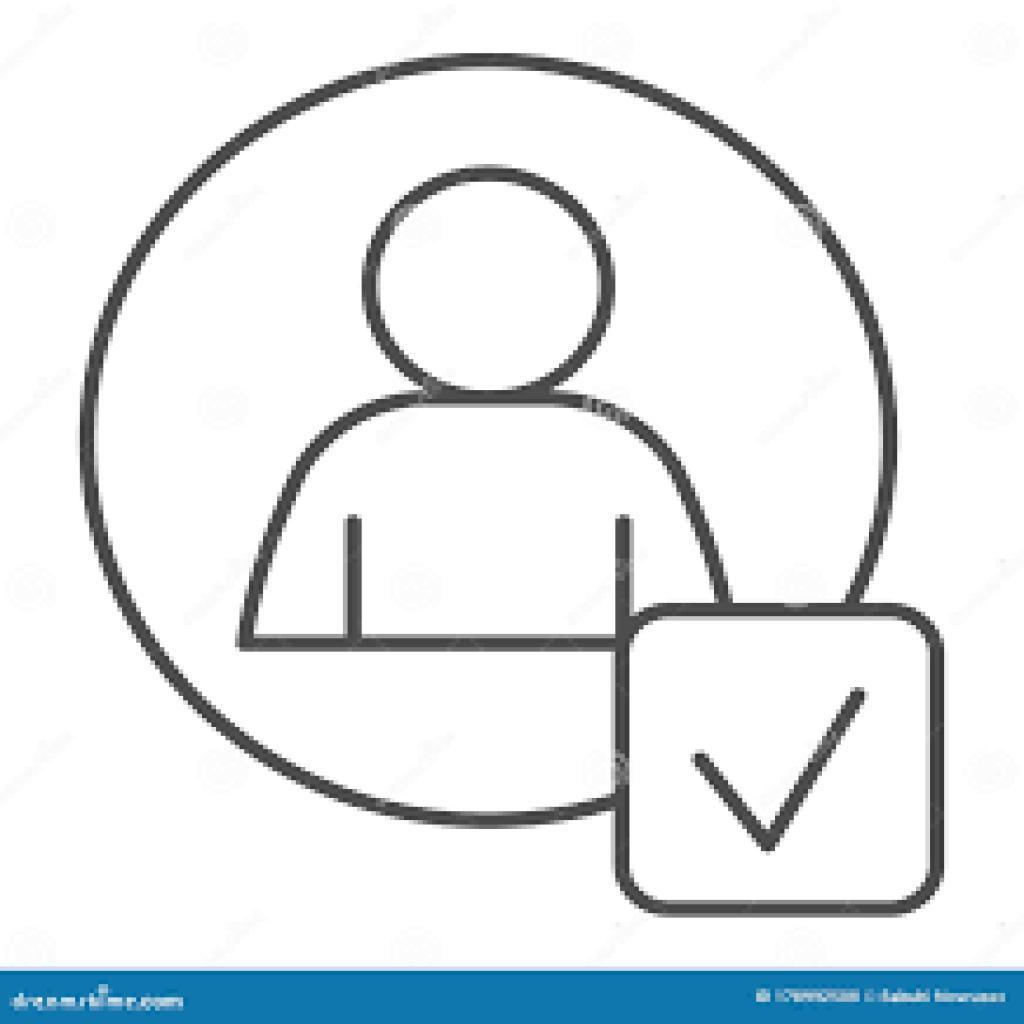checkbox: (616, 603, 945, 918)
